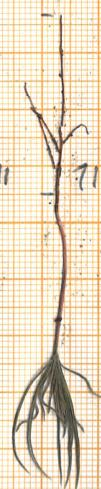flower: (0, 348, 101, 489)
root: (21, 13, 93, 188)
stem: (47, 193, 71, 353)
